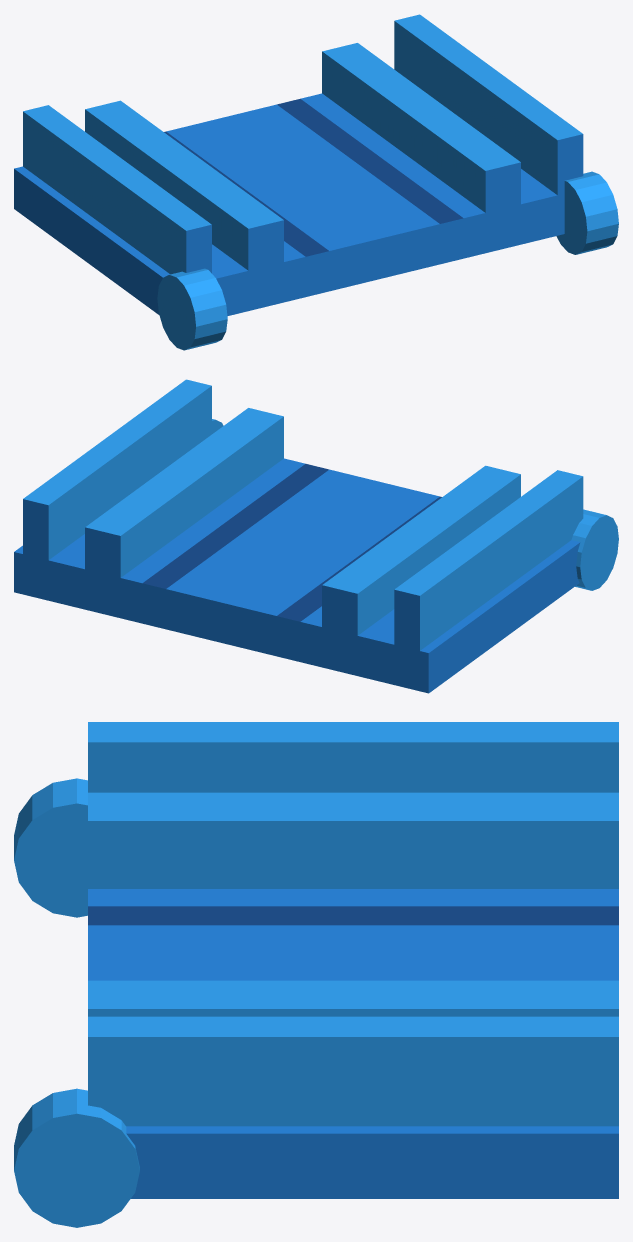
The model's file is Track_Flex_Node.fbx.
The picture shows the model from 3 angles, top to bottom: view 1: azimuth 30°, elevation 25°; view 2: azimuth 150°, elevation 25°; view 3: azimuth 270°, elevation 25°; orthographic projection. The views are drawn at different scales.
Parts seen in each view (by area): view 1: Molded blue node bed, Hinge boss.001, Hinge boss; view 2: Molded blue node bed, Hinge boss.001; view 3: Molded blue node bed, Hinge boss, Hinge boss.001.
Part boxes in pixels (x1=…): Molded blue node bed: x1=14, y1=14, x2=583, y2=316; Hinge boss.001: x1=157, y1=268, x2=227, y2=350; Hinge boss: x1=556, y1=171, x2=618, y2=254; Molded blue node bed: x1=14, y1=379, x2=583, y2=693; Hinge boss.001: x1=571, y1=509, x2=618, y2=590; Molded blue node bed: x1=88, y1=722, x2=618, y2=1198; Hinge boss: x1=14, y1=1088, x2=139, y2=1227; Hinge boss.001: x1=14, y1=778, x2=87, y2=917.
Bounding box in the file's own units: 108 × 27.05 × 82.04.
